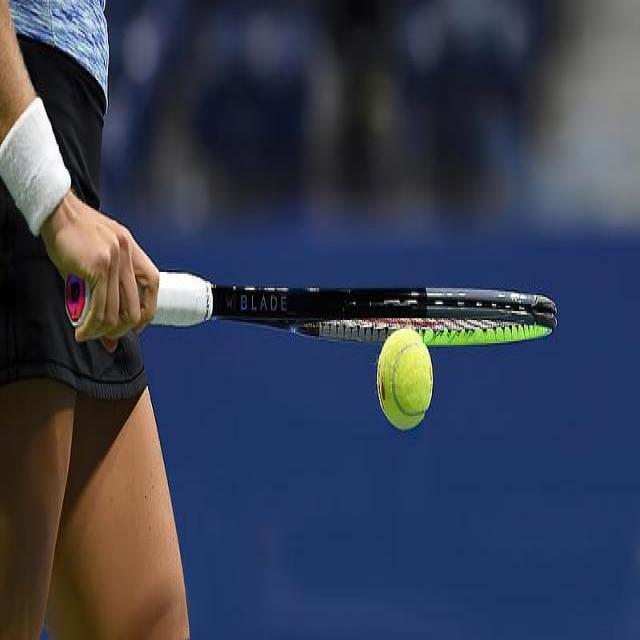tennis-ball: (375, 325, 433, 431)
